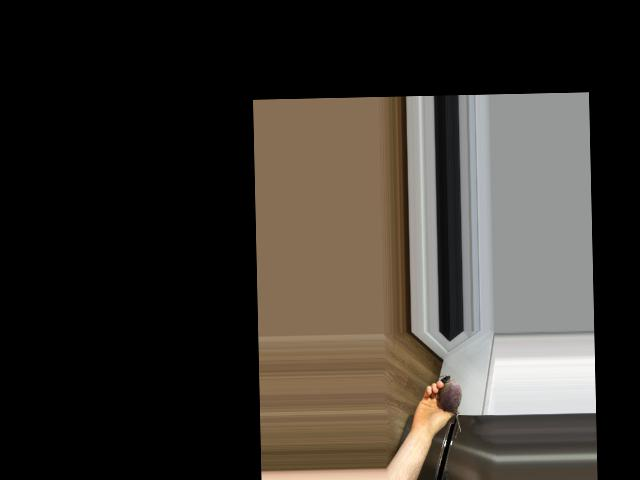beet: (438, 374, 462, 432)
